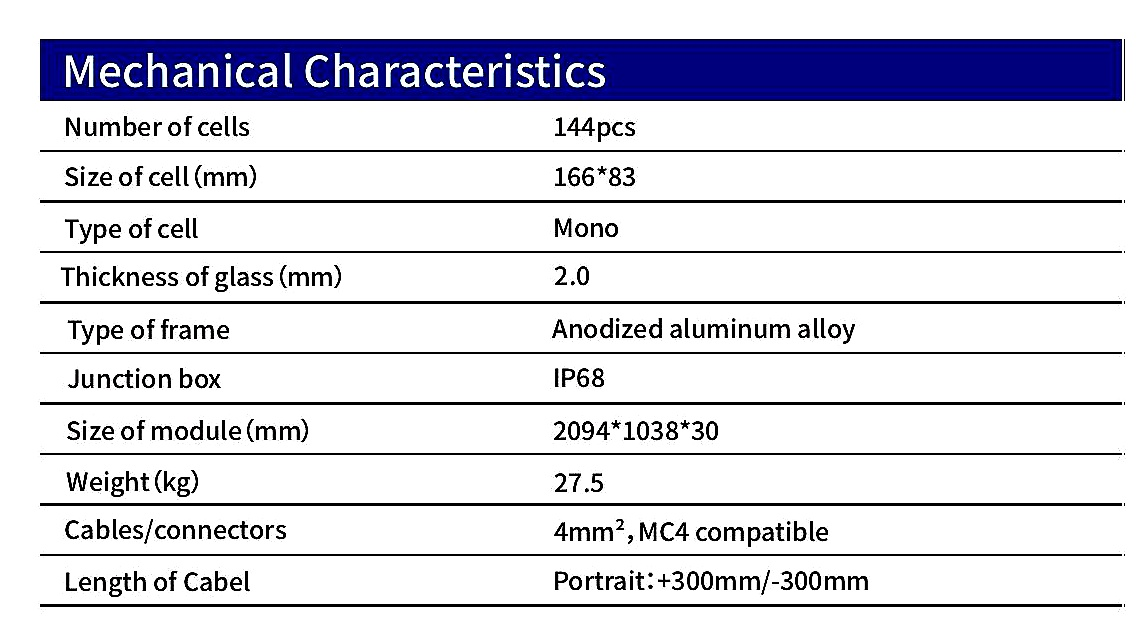table: (32, 34, 1136, 621)
table column: (494, 41, 1125, 599), (44, 40, 490, 607)
table name: (45, 39, 1119, 100)
table row: (41, 41, 1119, 98), (42, 557, 1126, 605), (41, 102, 1124, 149), (44, 457, 1124, 502), (43, 255, 1122, 300), (44, 305, 1123, 350), (44, 407, 1123, 452), (42, 508, 1123, 552), (42, 205, 1122, 249), (43, 355, 1123, 399), (43, 155, 1121, 199)
table row header: (42, 40, 491, 605)
table spanning cell: (43, 39, 1118, 98)
